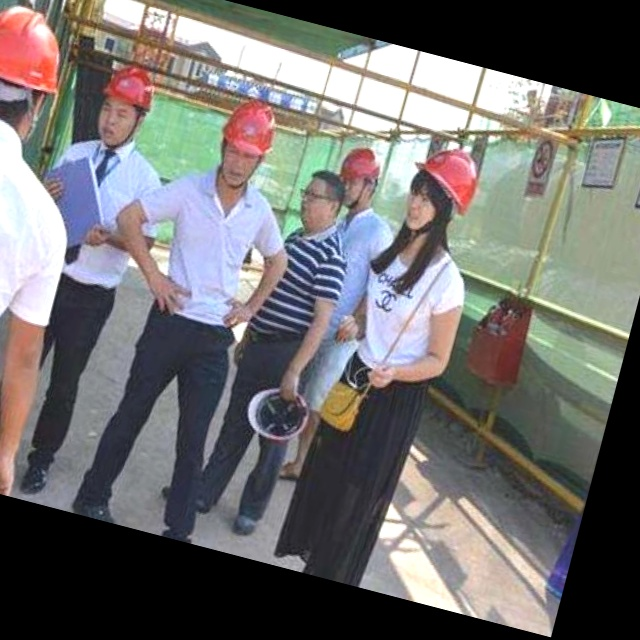Con_Casco: (91, 61, 161, 149)
Sin_Chaleco: (139, 167, 281, 342)
